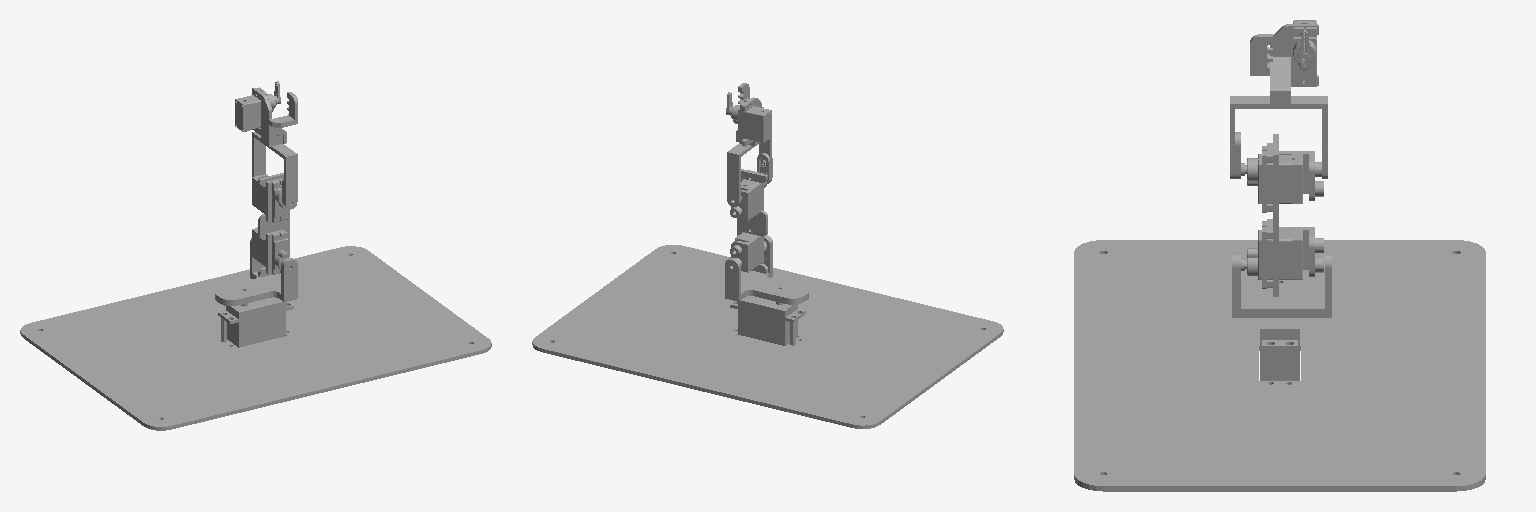
The robot description file, URDF, robot "sr1_3dof_urdf":
<?xml version="1.0" ?>
<!-- =================================================================================== -->
<!-- |    This document was autogenerated by xacro from sr1_3dof_urdf.xacro            | -->
<!-- |    EDITING THIS FILE BY HAND IS NOT RECOMMENDED                                 | -->
<!-- =================================================================================== -->
<robot name="sr1_3dof_urdf">
  <material name="silver">
    <color rgba="0.700 0.700 0.700 1.000"/>
  </material>
  <transmission name="joint2_tran">
    <type>transmission_interface/SimpleTransmission</type>
    <joint name="joint2">
      <hardwareInterface>hardware_interface/EffortJointInterface</hardwareInterface>
    </joint>
    <actuator name="joint2_actr">
      <hardwareInterface>hardware_interface/EffortJointInterface</hardwareInterface>
      <mechanicalReduction>1</mechanicalReduction>
    </actuator>
  </transmission>
  <transmission name="joint3_tran">
    <type>transmission_interface/SimpleTransmission</type>
    <joint name="joint3">
      <hardwareInterface>hardware_interface/EffortJointInterface</hardwareInterface>
    </joint>
    <actuator name="joint3_actr">
      <hardwareInterface>hardware_interface/EffortJointInterface</hardwareInterface>
      <mechanicalReduction>1</mechanicalReduction>
    </actuator>
  </transmission>
  <transmission name="joint1_tran">
    <type>transmission_interface/SimpleTransmission</type>
    <joint name="joint1">
      <hardwareInterface>hardware_interface/EffortJointInterface</hardwareInterface>
    </joint>
    <actuator name="joint1_actr">
      <hardwareInterface>hardware_interface/EffortJointInterface</hardwareInterface>
      <mechanicalReduction>1</mechanicalReduction>
    </actuator>
  </transmission>
  <transmission name="Rev42_tran">
    <type>transmission_interface/SimpleTransmission</type>
    <joint name="Rev42">
      <hardwareInterface>hardware_interface/EffortJointInterface</hardwareInterface>
    </joint>
    <actuator name="Rev42_actr">
      <hardwareInterface>hardware_interface/EffortJointInterface</hardwareInterface>
      <mechanicalReduction>1</mechanicalReduction>
    </actuator>
  </transmission>
  <gazebo>
    <plugin filename="libgazebo_ros_control.so" name="control"/>
  </gazebo>
  <gazebo reference="base_link">
    <material>Gazebo/Silver</material>
    <mu1>0.2</mu1>
    <mu2>0.2</mu2>
    <selfCollide>true</selfCollide>
    <gravity>true</gravity>
  </gazebo>
  <gazebo reference="standM20_1">
    <material>Gazebo/Silver</material>
    <mu1>0.2</mu1>
    <mu2>0.2</mu2>
    <selfCollide>true</selfCollide>
  </gazebo>
  <gazebo reference="servo1_1">
    <material>Gazebo/Silver</material>
    <mu1>0.2</mu1>
    <mu2>0.2</mu2>
    <selfCollide>true</selfCollide>
  </gazebo>
  <gazebo reference="arm_servo2_1">
    <material>Gazebo/Silver</material>
    <mu1>0.2</mu1>
    <mu2>0.2</mu2>
    <selfCollide>true</selfCollide>
  </gazebo>
  <gazebo reference="servo2_1">
    <material>Gazebo/Silver</material>
    <mu1>0.2</mu1>
    <mu2>0.2</mu2>
    <selfCollide>true</selfCollide>
  </gazebo>
  <gazebo reference="servo_suit2_1">
    <material>Gazebo/Silver</material>
    <mu1>0.2</mu1>
    <mu2>0.2</mu2>
    <selfCollide>true</selfCollide>
  </gazebo>
  <gazebo reference="link2_1">
    <material>Gazebo/Silver</material>
    <mu1>0.2</mu1>
    <mu2>0.2</mu2>
    <selfCollide>true</selfCollide>
  </gazebo>
  <gazebo reference="servo_suit3_1">
    <material>Gazebo/Silver</material>
    <mu1>0.2</mu1>
    <mu2>0.2</mu2>
    <selfCollide>true</selfCollide>
  </gazebo>
  <gazebo reference="servo3_1">
    <material>Gazebo/Silver</material>
    <mu1>0.2</mu1>
    <mu2>0.2</mu2>
    <selfCollide>true</selfCollide>
  </gazebo>
  <gazebo reference="arm_servo3_1">
    <material>Gazebo/Silver</material>
    <mu1>0.2</mu1>
    <mu2>0.2</mu2>
    <selfCollide>true</selfCollide>
  </gazebo>
  <gazebo reference="arm_servo1_1">
    <material>Gazebo/Silver</material>
    <mu1>0.2</mu1>
    <mu2>0.2</mu2>
    <selfCollide>true</selfCollide>
  </gazebo>
  <gazebo reference="link1_1">
    <material>Gazebo/Silver</material>
    <mu1>0.2</mu1>
    <mu2>0.2</mu2>
    <selfCollide>true</selfCollide>
  </gazebo>
  <gazebo reference="link3_1">
    <material>Gazebo/Silver</material>
    <mu1>0.2</mu1>
    <mu2>0.2</mu2>
    <selfCollide>true</selfCollide>
  </gazebo>
  <gazebo reference="gripper_1">
    <material>Gazebo/Silver</material>
    <mu1>0.2</mu1>
    <mu2>0.2</mu2>
    <selfCollide>true</selfCollide>
  </gazebo>
  <gazebo reference="servo_gripper_1">
    <material>Gazebo/Silver</material>
    <mu1>0.2</mu1>
    <mu2>0.2</mu2>
    <selfCollide>true</selfCollide>
  </gazebo>
  <gazebo reference="gripper_arm_1">
    <material>Gazebo/Silver</material>
    <mu1>0.2</mu1>
    <mu2>0.2</mu2>
    <selfCollide>true</selfCollide>
  </gazebo>
  <link name="base_link">
    <inertial>
      <origin rpy="0 0 0" xyz="-0.0002513306601796678 0.00013267508841249576 0.001059046789686807"/>
      <mass value="1.4414312260182711"/>
      <inertia ixx="0.005341" ixy="-0.0" ixz="-0.0" iyy="0.010675" iyz="0.0" izz="0.016014"/>
    </inertial>
    <visual>
      <origin rpy="0 0 0" xyz="0 0 0"/>
      <geometry>
        <mesh filename="package://sr1_3dof_urdf_description/meshes/base_link.stl" scale="0.001 0.001 0.001"/>
      </geometry>
      <material name="silver"/>
    </visual>
    <collision>
      <origin rpy="0 0 0" xyz="0 0 0"/>
      <geometry>
        <mesh filename="package://sr1_3dof_urdf_description/meshes/base_link.stl" scale="0.001 0.001 0.001"/>
      </geometry>
    </collision>
  </link>
  <link name="standM20_1">
    <inertial>
      <origin rpy="0 0 0" xyz="-3.306599347871475e-07 -3.249115877925618e-07 0.01000004678968681"/>
      <mass value="0.0015683260779925593"/>
      <inertia ixx="0.0" ixy="0.0" ixz="0.0" iyy="0.0" iyz="0.0" izz="0.0"/>
    </inertial>
    <visual>
      <origin rpy="0 0 0" xyz="0.024751 -0.004883 -0.002559"/>
      <geometry>
        <mesh filename="package://sr1_3dof_urdf_description/meshes/standM20_1.stl" scale="0.001 0.001 0.001"/>
      </geometry>
      <material name="silver"/>
    </visual>
    <collision>
      <origin rpy="0 0 0" xyz="0.024751 -0.004883 -0.002559"/>
      <geometry>
        <mesh filename="package://sr1_3dof_urdf_description/meshes/standM20_1.stl" scale="0.001 0.001 0.001"/>
      </geometry>
    </collision>
  </link>
  <link name="servo1_1">
    <inertial>
      <origin rpy="0 0 0" xyz="0.024429239244436834 -0.004750324911591204 -0.008932139547487766"/>
      <mass value="0.23103338687475486"/>
      <inertia ixx="3.2e-05" ixy="-0.0" ixz="0.0" iyy="5.8e-05" iyz="0.0" izz="4.1e-05"/>
    </inertial>
    <visual>
      <origin rpy="0 0 0" xyz="0.024751 -0.004883 -0.022559"/>
      <geometry>
        <mesh filename="package://sr1_3dof_urdf_description/meshes/servo1_1.stl" scale="0.001 0.001 0.001"/>
      </geometry>
      <material name="silver"/>
    </visual>
    <collision>
      <origin rpy="0 0 0" xyz="0.024751 -0.004883 -0.022559"/>
      <geometry>
        <mesh filename="package://sr1_3dof_urdf_description/meshes/servo1_1.stl" scale="0.001 0.001 0.001"/>
      </geometry>
    </collision>
  </link>
  <link name="arm_servo2_1">
    <inertial>
      <origin rpy="0 0 0" xyz="5.963469627695561e-07 0.0018134751183520974 -0.003929292208864357"/>
      <mass value="0.0016195799801192233"/>
      <inertia ixx="0.0" ixy="0.0" ixz="0.0" iyy="0.0" iyz="-0.0" izz="0.0"/>
    </inertial>
    <visual>
      <origin rpy="0 0 0" xyz="-0.01564 0.022567 -0.065409"/>
      <geometry>
        <mesh filename="package://sr1_3dof_urdf_description/meshes/arm_servo2_1.stl" scale="0.001 0.001 0.001"/>
      </geometry>
      <material name="silver"/>
    </visual>
    <collision>
      <origin rpy="0 0 0" xyz="-0.01564 0.022567 -0.065409"/>
      <geometry>
        <mesh filename="package://sr1_3dof_urdf_description/meshes/arm_servo2_1.stl" scale="0.001 0.001 0.001"/>
      </geometry>
    </collision>
  </link>
  <link name="servo2_1">
    <inertial>
      <origin rpy="0 0 0" xyz="-3.306601796919384e-07 0.0017291344703287796 4.678937873259237e-08"/>
      <mass value="0.00045126850039796834"/>
      <inertia ixx="0.0" ixy="0.0" ixz="0.0" iyy="0.0" iyz="-0.0" izz="0.0"/>
    </inertial>
    <visual>
      <origin rpy="0 0 0" xyz="-0.01564 0.020067 -0.065409"/>
      <geometry>
        <mesh filename="package://sr1_3dof_urdf_description/meshes/servo2_1.stl" scale="0.001 0.001 0.001"/>
      </geometry>
      <material name="silver"/>
    </visual>
    <collision>
      <origin rpy="0 0 0" xyz="-0.01564 0.020067 -0.065409"/>
      <geometry>
        <mesh filename="package://sr1_3dof_urdf_description/meshes/servo2_1.stl" scale="0.001 0.001 0.001"/>
      </geometry>
    </collision>
  </link>
  <link name="servo_suit2_1">
    <inertial>
      <origin rpy="0 0 0" xyz="-0.004044486872933108 0.015156467820661096 -0.013874953115322247"/>
      <mass value="0.025845994288563736"/>
      <inertia ixx="4e-06" ixy="-0.0" ixz="0.0" iyy="2e-06" iyz="0.0" izz="3e-06"/>
    </inertial>
    <visual>
      <origin rpy="0 0 0" xyz="-0.01564 0.006317 -0.084659"/>
      <geometry>
        <mesh filename="package://sr1_3dof_urdf_description/meshes/servo_suit2_1.stl" scale="0.001 0.001 0.001"/>
      </geometry>
      <material name="silver"/>
    </visual>
    <collision>
      <origin rpy="0 0 0" xyz="-0.01564 0.006317 -0.084659"/>
      <geometry>
        <mesh filename="package://sr1_3dof_urdf_description/meshes/servo_suit2_1.stl" scale="0.001 0.001 0.001"/>
      </geometry>
    </collision>
  </link>
  <link name="link2_1">
    <inertial>
      <origin rpy="0 0 0" xyz="0.0008906247114664166 0.0014996740380796424 0.03525004678968814"/>
      <mass value="0.024002279759971108"/>
      <inertia ixx="1.3e-05" ixy="-0.0" ixz="0.0" iyy="1.4e-05" iyz="0.0" izz="1e-06"/>
    </inertial>
    <visual>
      <origin rpy="0 0 0" xyz="-0.01569 0.003317 -0.056909"/>
      <geometry>
        <mesh filename="package://sr1_3dof_urdf_description/meshes/link2_1.stl" scale="0.001 0.001 0.001"/>
      </geometry>
      <material name="silver"/>
    </visual>
    <collision>
      <origin rpy="0 0 0" xyz="-0.01569 0.003317 -0.056909"/>
      <geometry>
        <mesh filename="package://sr1_3dof_urdf_description/meshes/link2_1.stl" scale="0.001 0.001 0.001"/>
      </geometry>
    </collision>
  </link>
  <link name="servo_suit3_1">
    <inertial>
      <origin rpy="0 0 0" xyz="-0.004094486872933092 0.012156467820661097 0.013875046884677764"/>
      <mass value="0.025845994288563736"/>
      <inertia ixx="4e-06" ixy="-0.0" ixz="0.0" iyy="2e-06" iyz="0.0" izz="3e-06"/>
    </inertial>
    <visual>
      <origin rpy="0 0 0" xyz="-0.01569 0.003317 -0.099659"/>
      <geometry>
        <mesh filename="package://sr1_3dof_urdf_description/meshes/servo_suit3_1.stl" scale="0.001 0.001 0.001"/>
      </geometry>
      <material name="silver"/>
    </visual>
    <collision>
      <origin rpy="0 0 0" xyz="-0.01569 0.003317 -0.099659"/>
      <geometry>
        <mesh filename="package://sr1_3dof_urdf_description/meshes/servo_suit3_1.stl" scale="0.001 0.001 0.001"/>
      </geometry>
    </collision>
  </link>
  <link name="servo3_1">
    <inertial>
      <origin rpy="0 0 0" xyz="-3.306601796641828e-07 -0.012020865529671219 0.01925004678999484"/>
      <mass value="0.00045126850039796834"/>
      <inertia ixx="0.0" ixy="-0.0" ixz="0.0" iyy="0.0" iyz="0.0" izz="0.0"/>
    </inertial>
    <visual>
      <origin rpy="0 0 0" xyz="-0.01569 0.006317 -0.099659"/>
      <geometry>
        <mesh filename="package://sr1_3dof_urdf_description/meshes/servo3_1.stl" scale="0.001 0.001 0.001"/>
      </geometry>
      <material name="silver"/>
    </visual>
    <collision>
      <origin rpy="0 0 0" xyz="-0.01569 0.006317 -0.099659"/>
      <geometry>
        <mesh filename="package://sr1_3dof_urdf_description/meshes/servo3_1.stl" scale="0.001 0.001 0.001"/>
      </geometry>
    </collision>
  </link>
  <link name="arm_servo3_1">
    <inertial>
      <origin rpy="0 0 0" xyz="-1.2576673221291468e-06 -0.0006865248816478979 0.003929385788237955"/>
      <mass value="0.0016195799801192233"/>
      <inertia ixx="0.0" ixy="-0.0" ixz="0.0" iyy="0.0" iyz="0.0" izz="0.0"/>
    </inertial>
    <visual>
      <origin rpy="0 0 0" xyz="-0.01569 0.020067 -0.118909"/>
      <geometry>
        <mesh filename="package://sr1_3dof_urdf_description/meshes/arm_servo3_1.stl" scale="0.001 0.001 0.001"/>
      </geometry>
      <material name="silver"/>
    </visual>
    <collision>
      <origin rpy="0 0 0" xyz="-0.01569 0.020067 -0.118909"/>
      <geometry>
        <mesh filename="package://sr1_3dof_urdf_description/meshes/arm_servo3_1.stl" scale="0.001 0.001 0.001"/>
      </geometry>
    </collision>
  </link>
  <link name="arm_servo1_1">
    <inertial>
      <origin rpy="0 0 0" xyz="2.3104853023488137e-06 7.551504635582137e-07 0.0007555080204811118"/>
      <mass value="0.0059977269324000045"/>
      <inertia ixx="0.0" ixy="0.0" ixz="-0.0" iyy="0.0" iyz="-0.0" izz="1e-06"/>
    </inertial>
    <visual>
      <origin rpy="0 0 0" xyz="0.01036 -0.000133 -0.038559"/>
      <geometry>
        <mesh filename="package://sr1_3dof_urdf_description/meshes/arm_servo1_1.stl" scale="0.001 0.001 0.001"/>
      </geometry>
      <material name="silver"/>
    </visual>
    <collision>
      <origin rpy="0 0 0" xyz="0.01036 -0.000133 -0.038559"/>
      <geometry>
        <mesh filename="package://sr1_3dof_urdf_description/meshes/arm_servo1_1.stl" scale="0.001 0.001 0.001"/>
      </geometry>
    </collision>
  </link>
  <link name="link1_1">
    <inertial>
      <origin rpy="0 0 0" xyz="0.014528279310683897 0.0006582031499173364 0.004057458413534304"/>
      <mass value="0.07794699374847427"/>
      <inertia ixx="2.3e-05" ixy="-1e-06" ixz="-3e-06" iyy="2.4e-05" iyz="-0.0" izz="3.7e-05"/>
    </inertial>
    <visual>
      <origin rpy="0 0 0" xyz="0.01036 -0.000133 -0.040909"/>
      <geometry>
        <mesh filename="package://sr1_3dof_urdf_description/meshes/link1_1.stl" scale="0.001 0.001 0.001"/>
      </geometry>
      <material name="silver"/>
    </visual>
    <collision>
      <origin rpy="0 0 0" xyz="0.01036 -0.000133 -0.040909"/>
      <geometry>
        <mesh filename="package://sr1_3dof_urdf_description/meshes/link1_1.stl" scale="0.001 0.001 0.001"/>
      </geometry>
    </collision>
  </link>
  <link name="link3_1">
    <inertial>
      <origin rpy="0 0 0" xyz="1.6240993769386924e-05 0.02098286082457871 0.026682258954501284"/>
      <mass value="0.03785425732812347"/>
      <inertia ixx="2.2e-05" ixy="-0.0" ixz="-0.0" iyy="9e-06" iyz="-1e-06" izz="1.4e-05"/>
    </inertial>
    <visual>
      <origin rpy="0 0 0" xyz="-0.01569 0.022567 -0.118909"/>
      <geometry>
        <mesh filename="package://sr1_3dof_urdf_description/meshes/link3_1.stl" scale="0.001 0.001 0.001"/>
      </geometry>
      <material name="silver"/>
    </visual>
    <collision>
      <origin rpy="0 0 0" xyz="-0.01569 0.022567 -0.118909"/>
      <geometry>
        <mesh filename="package://sr1_3dof_urdf_description/meshes/link3_1.stl" scale="0.001 0.001 0.001"/>
      </geometry>
    </collision>
  </link>
  <link name="gripper_1">
    <inertial>
      <origin rpy="0 0 0" xyz="-0.00046348169400030163 -0.003986723614618486 0.010686415860186205"/>
      <mass value="0.03354685638470914"/>
      <inertia ixx="6e-06" ixy="1e-06" ixz="-0.0" iyy="5e-06" iyz="1e-06" izz="3e-06"/>
    </inertial>
    <visual>
      <origin rpy="0 0 0" xyz="-0.01569 -0.002815 -0.165693"/>
      <geometry>
        <mesh filename="package://sr1_3dof_urdf_description/meshes/gripper_1.stl" scale="0.001 0.001 0.001"/>
      </geometry>
      <material name="silver"/>
    </visual>
    <collision>
      <origin rpy="0 0 0" xyz="-0.01569 -0.002815 -0.165693"/>
      <geometry>
        <mesh filename="package://sr1_3dof_urdf_description/meshes/gripper_1.stl" scale="0.001 0.001 0.001"/>
      </geometry>
    </collision>
  </link>
  <link name="servo_gripper_1">
    <inertial>
      <origin rpy="0 0 0" xyz="0.012020708907571221 -3.249115879313397e-07 -0.008500466304414783"/>
      <mass value="0.00045126850039796834"/>
      <inertia ixx="0.0" ixy="0.0" ixz="-0.0" iyy="0.0" iyz="0.0" izz="0.0"/>
    </inertial>
    <visual>
      <origin rpy="0 0 0" xyz="-0.010713 -0.012815 -0.194693"/>
      <geometry>
        <mesh filename="package://sr1_3dof_urdf_description/meshes/servo_gripper_1.stl" scale="0.001 0.001 0.001"/>
      </geometry>
      <material name="silver"/>
    </visual>
    <collision>
      <origin rpy="0 0 0" xyz="-0.010713 -0.012815 -0.194693"/>
      <geometry>
        <mesh filename="package://sr1_3dof_urdf_description/meshes/servo_gripper_1.stl" scale="0.001 0.001 0.001"/>
      </geometry>
    </collision>
  </link>
  <link name="gripper_arm_1">
    <inertial>
      <origin rpy="0 0 0" xyz="0.0006863682595479141 -1.2519187303928342e-06 0.003928872693828328"/>
      <mass value="0.0016195799801192233"/>
      <inertia ixx="0.0" ixy="0.0" ixz="-0.0" iyy="0.0" iyz="0.0" izz="0.0"/>
    </inertial>
    <visual>
      <origin rpy="0 0 0" xyz="-0.024463 -0.012815 -0.186193"/>
      <geometry>
        <mesh filename="package://sr1_3dof_urdf_description/meshes/gripper_arm_1.stl" scale="0.001 0.001 0.001"/>
      </geometry>
      <material name="silver"/>
    </visual>
    <collision>
      <origin rpy="0 0 0" xyz="-0.024463 -0.012815 -0.186193"/>
      <geometry>
        <mesh filename="package://sr1_3dof_urdf_description/meshes/gripper_arm_1.stl" scale="0.001 0.001 0.001"/>
      </geometry>
    </collision>
  </link>
  <joint name="Rigid24" type="fixed">
    <origin rpy="0 0 0" xyz="-0.024751 0.004883 0.002559"/>
    <parent link="base_link"/>
    <child link="standM20_1"/>
  </joint>
  <joint name="Rigid25" type="fixed">
    <origin rpy="0 0 0" xyz="0.0 0.0 0.02"/>
    <parent link="standM20_1"/>
    <child link="servo1_1"/>
  </joint>
  <joint name="Rigid28" type="fixed">
    <origin rpy="0 0 0" xyz="0.026 -0.0227 0.0245"/>
    <parent link="link1_1"/>
    <child link="arm_servo2_1"/>
  </joint>
  <joint name="joint2" type="revolute">
    <origin rpy="0 0 0" xyz="0.0 0.0025 0.0"/>
    <parent link="arm_servo2_1"/>
    <child link="servo2_1"/>
    <axis xyz="-0.0 -1.0 -0.0"/>
    <limit effort="100" lower="-1.570796" upper="1.570796" velocity="100"/>
  </joint>
  <joint name="Rigid30" type="fixed">
    <origin rpy="0 0 0" xyz="0.0 0.01375 0.01925"/>
    <parent link="servo2_1"/>
    <child link="servo_suit2_1"/>
  </joint>
  <joint name="Rigid31" type="fixed">
    <origin rpy="0 0 0" xyz="5e-05 0.003 -0.02775"/>
    <parent link="servo_suit2_1"/>
    <child link="link2_1"/>
  </joint>
  <joint name="Rigid32" type="fixed">
    <origin rpy="0 0 0" xyz="0.0 0.0 0.04275"/>
    <parent link="link2_1"/>
    <child link="servo_suit3_1"/>
  </joint>
  <joint name="Rigid33" type="fixed">
    <origin rpy="0 0 0" xyz="0.0 -0.003 0.0"/>
    <parent link="servo_suit3_1"/>
    <child link="servo3_1"/>
  </joint>
  <joint name="joint3" type="revolute">
    <origin rpy="0 0 0" xyz="0.0 -0.01375 0.01925"/>
    <parent link="servo3_1"/>
    <child link="arm_servo3_1"/>
    <axis xyz="-0.0 -1.0 0.0"/>
    <limit effort="100" lower="-1.570796" upper="1.570796" velocity="100"/>
  </joint>
  <joint name="joint1" type="revolute">
    <origin rpy="0 0 0" xyz="0.014391 -0.00475 0.016"/>
    <parent link="servo1_1"/>
    <child link="arm_servo1_1"/>
    <axis xyz="0.0 -0.0 1.0"/>
    <limit effort="100" lower="-1.570796" upper="1.570796" velocity="100"/>
  </joint>
  <joint name="Rigid37" type="fixed">
    <origin rpy="0 0 0" xyz="0.0 0.0 0.00235"/>
    <parent link="arm_servo1_1"/>
    <child link="link1_1"/>
  </joint>
  <joint name="Rigid39" type="fixed">
    <origin rpy="0 0 0" xyz="0.0 -0.0025 0.0"/>
    <parent link="arm_servo3_1"/>
    <child link="link3_1"/>
  </joint>
  <joint name="Rigid40" type="fixed">
    <origin rpy="0 0 0" xyz="0.0 0.025382 0.046784"/>
    <parent link="link3_1"/>
    <child link="gripper_1"/>
  </joint>
  <joint name="Rigid41" type="fixed">
    <origin rpy="0 0 0" xyz="-0.004977 0.01 0.029"/>
    <parent link="gripper_1"/>
    <child link="servo_gripper_1"/>
  </joint>
  <joint name="Rev42" type="revolute">
    <origin rpy="0 0 0" xyz="0.01375 0.0 -0.0085"/>
    <parent link="servo_gripper_1"/>
    <child link="gripper_arm_1"/>
    <axis xyz="1.0 -0.0 -0.0"/>
    <limit effort="100" lower="0.0" upper="3.141593" velocity="100"/>
  </joint>
</robot>

--- Facts derived from the render (not from the file) ---
3 views of the same robot in one strip: view 1: azimuth 30°, elevation 25°; view 2: azimuth 150°, elevation 25°; view 3: azimuth 270°, elevation 25° (orthographic).
Robot: sr1_3dof_urdf — 16 links, 15 joints (4 revolute, 11 fixed); root link base_link; default pose: every joint at zero.
Visible links, largest first — view 1: base_link, servo1_1, link1_1, link3_1, gripper_1, servo_gripper_1, link2_1, servo_suit3_1, servo_suit2_1, servo2_1; view 2: base_link, servo1_1, link1_1, link3_1, servo_gripper_1, link2_1, servo_suit2_1, servo_suit3_1; view 3: base_link, link1_1, gripper_1, servo1_1, servo2_1, servo3_1, link3_1, servo_gripper_1, servo_suit2_1, servo_suit3_1, link2_1.
Boxes of the visible links, x1,y1,x2,y2 form: base_link: (20, 246, 491, 430); servo1_1: (218, 297, 293, 347); link1_1: (215, 238, 297, 305); link3_1: (252, 131, 297, 209); gripper_1: (252, 88, 297, 147); servo_gripper_1: (235, 87, 275, 131); link2_1: (258, 173, 289, 276); servo_suit3_1: (252, 174, 282, 222); servo_suit2_1: (252, 227, 284, 274); servo2_1: (272, 231, 289, 274); base_link: (532, 245, 1003, 428); servo1_1: (730, 296, 805, 345); link1_1: (725, 235, 808, 304); link3_1: (727, 138, 772, 206); servo_gripper_1: (731, 98, 771, 143); link2_1: (737, 169, 767, 273); servo_suit2_1: (730, 236, 763, 272); servo_suit3_1: (730, 182, 763, 220); base_link: (1074, 240, 1485, 491); link1_1: (1232, 252, 1331, 317); gripper_1: (1250, 24, 1318, 105); servo1_1: (1260, 318, 1299, 380); servo2_1: (1245, 221, 1302, 288); servo3_1: (1245, 146, 1302, 212); link3_1: (1230, 96, 1327, 178); servo_gripper_1: (1293, 20, 1316, 85); servo_suit2_1: (1267, 219, 1323, 287); servo_suit3_1: (1267, 143, 1323, 211); link2_1: (1273, 134, 1278, 296).
Size in the robot's own frame: 0.297 by 0.21 by 0.2056 metres.
16 mesh visuals loaded from 16 distinct referenced files (16 binary STL).